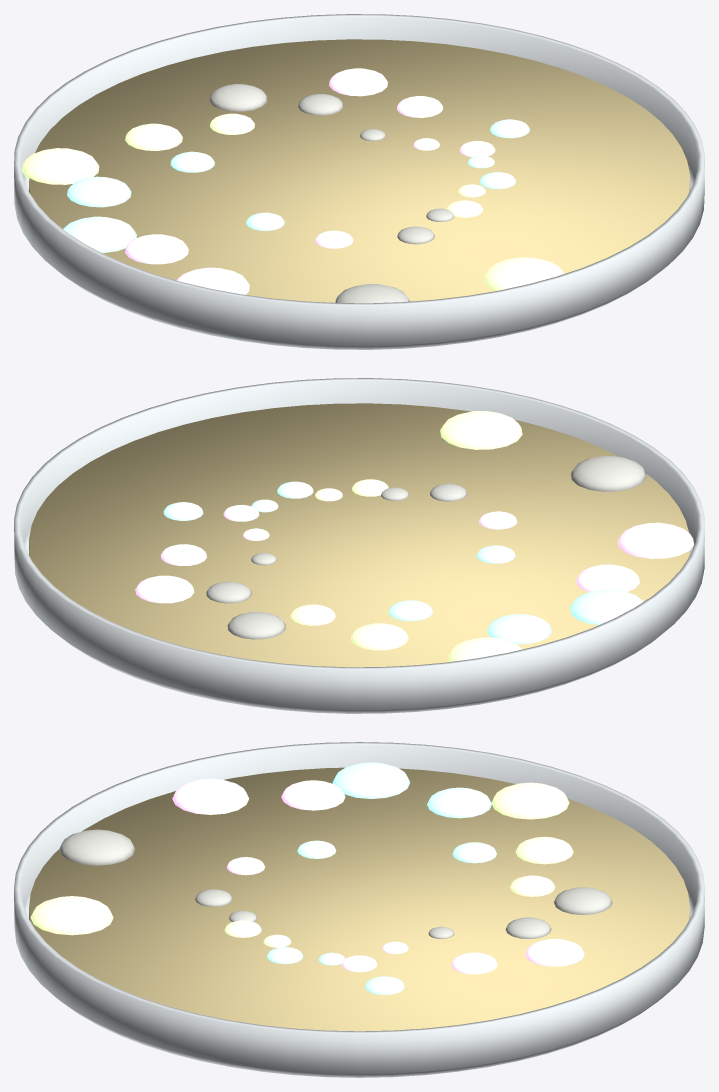
Rendered from L04_Petri_Dish_Platform.glb.
The picture shows the model from 3 angles, top to bottom: view 1: azimuth 30°, elevation 25°; view 2: azimuth 150°, elevation 25°; view 3: azimuth 270°, elevation 25°; orthographic projection.
Parts seen in each view (by area): view 1: L04_Petri_Dish_Platform_Mesh; view 2: L04_Petri_Dish_Platform_Mesh; view 3: L04_Petri_Dish_Platform_Mesh.
Boxes of the visible parts, <box> form: L04_Petri_Dish_Platform_Mesh: <box>14,14,704,349</box>; L04_Petri_Dish_Platform_Mesh: <box>14,378,704,713</box>; L04_Petri_Dish_Platform_Mesh: <box>14,742,704,1077</box>.
Bounding box in the file's own units: 8.26 × 0.63 × 8.26.
